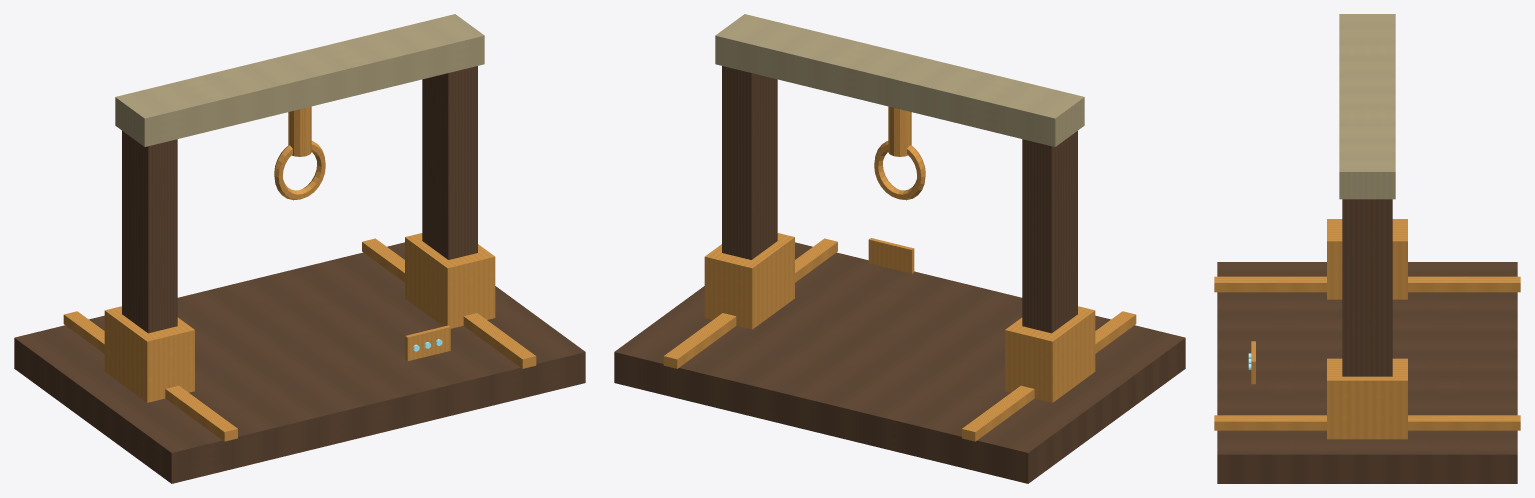
The model's file is atlas100-s012-a02.glb.
The picture shows the model from 3 angles, left to right: view 1: azimuth 30°, elevation 25°; view 2: azimuth 150°, elevation 25°; view 3: azimuth 270°, elevation 25°; orthographic projection. The views are drawn at different scales.
Visible parts, largest first — view 1: atlas100-s012-a02:part-000, atlas100-s012-a02:part-007, atlas100-s012-a02:part-003, atlas100-s012-a02:part-005, atlas100-s012-a02:part-004, atlas100-s012-a02:part-006, atlas100-s012-a02:part-002, atlas100-s012-a02:part-001, atlas100-s012-a02:part-009, atlas100-s012-a02:part-010, atlas100-s012-a02:part-008; view 2: atlas100-s012-a02:part-000, atlas100-s012-a02:part-007, atlas100-s012-a02:part-003, atlas100-s012-a02:part-005, atlas100-s012-a02:part-004, atlas100-s012-a02:part-006, atlas100-s012-a02:part-002, atlas100-s012-a02:part-001, atlas100-s012-a02:part-009, atlas100-s012-a02:part-010, atlas100-s012-a02:part-008; view 3: atlas100-s012-a02:part-000, atlas100-s012-a02:part-007, atlas100-s012-a02:part-005, atlas100-s012-a02:part-006, atlas100-s012-a02:part-001, atlas100-s012-a02:part-002, atlas100-s012-a02:part-004.
Boxes of the visible parts, x1,y1,x2,y2 form: atlas100-s012-a02:part-000: (14, 242, 585, 483); atlas100-s012-a02:part-007: (115, 14, 484, 146); atlas100-s012-a02:part-003: (122, 131, 177, 333); atlas100-s012-a02:part-005: (422, 66, 477, 259); atlas100-s012-a02:part-004: (104, 306, 194, 402); atlas100-s012-a02:part-006: (405, 233, 495, 328); atlas100-s012-a02:part-002: (362, 238, 536, 368); atlas100-s012-a02:part-001: (63, 311, 237, 441); atlas100-s012-a02:part-009: (274, 141, 325, 200); atlas100-s012-a02:part-010: (405, 325, 450, 361); atlas100-s012-a02:part-008: (288, 106, 311, 156); atlas100-s012-a02:part-000: (614, 242, 1185, 483); atlas100-s012-a02:part-007: (715, 14, 1084, 146); atlas100-s012-a02:part-003: (1022, 131, 1077, 333); atlas100-s012-a02:part-005: (722, 66, 777, 259); atlas100-s012-a02:part-004: (1005, 306, 1095, 402); atlas100-s012-a02:part-006: (704, 233, 794, 329); atlas100-s012-a02:part-002: (663, 238, 837, 368); atlas100-s012-a02:part-001: (962, 311, 1136, 441); atlas100-s012-a02:part-009: (874, 141, 925, 200); atlas100-s012-a02:part-010: (868, 238, 914, 273); atlas100-s012-a02:part-008: (888, 106, 911, 156); atlas100-s012-a02:part-000: (1217, 262, 1517, 483); atlas100-s012-a02:part-007: (1339, 14, 1395, 199); atlas100-s012-a02:part-005: (1342, 199, 1392, 376); atlas100-s012-a02:part-006: (1327, 358, 1407, 439); atlas100-s012-a02:part-001: (1214, 276, 1520, 292); atlas100-s012-a02:part-002: (1214, 415, 1520, 430); atlas100-s012-a02:part-004: (1327, 219, 1407, 299).
Size of the model in its own units: 3.64 by 2.6 by 2.45.
4 materials, 4 textured.
